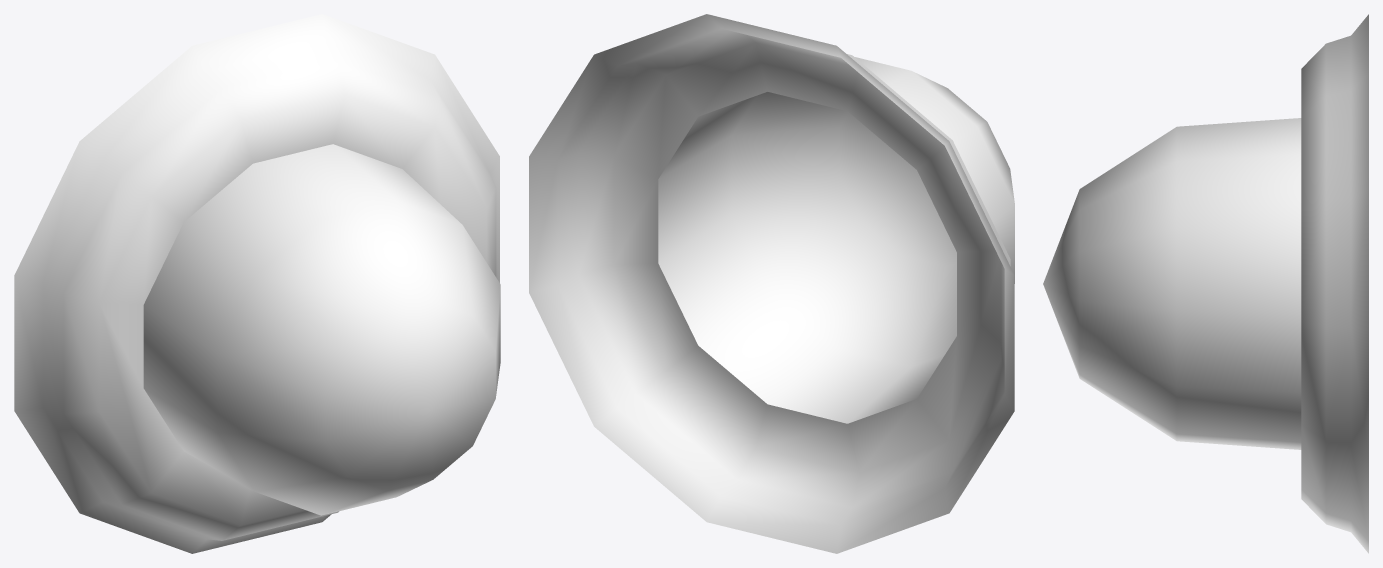
The model's file is original-58.obj.
3 views of the same model, side by side, from view 1: azimuth 30°, elevation 25°; view 2: azimuth 150°, elevation 25°; view 3: azimuth 270°, elevation 25° (orthographic). The views are drawn at different scales.
Visible parts, largest first — view 1: mesh28/mesh28-geometry#mesh28-geometry; view 2: mesh28/mesh28-geometry#mesh28-geometry; view 3: mesh28/mesh28-geometry#mesh28-geometry.
Part boxes in pixels (box(x1,y1,x2,y2)): mesh28/mesh28-geometry#mesh28-geometry: box(14, 14, 500, 553); mesh28/mesh28-geometry#mesh28-geometry: box(529, 14, 1014, 553); mesh28/mesh28-geometry#mesh28-geometry: box(1043, 14, 1368, 553).
Size of the model in its own units: 0.0184 by 0.0184 by 0.0113.
